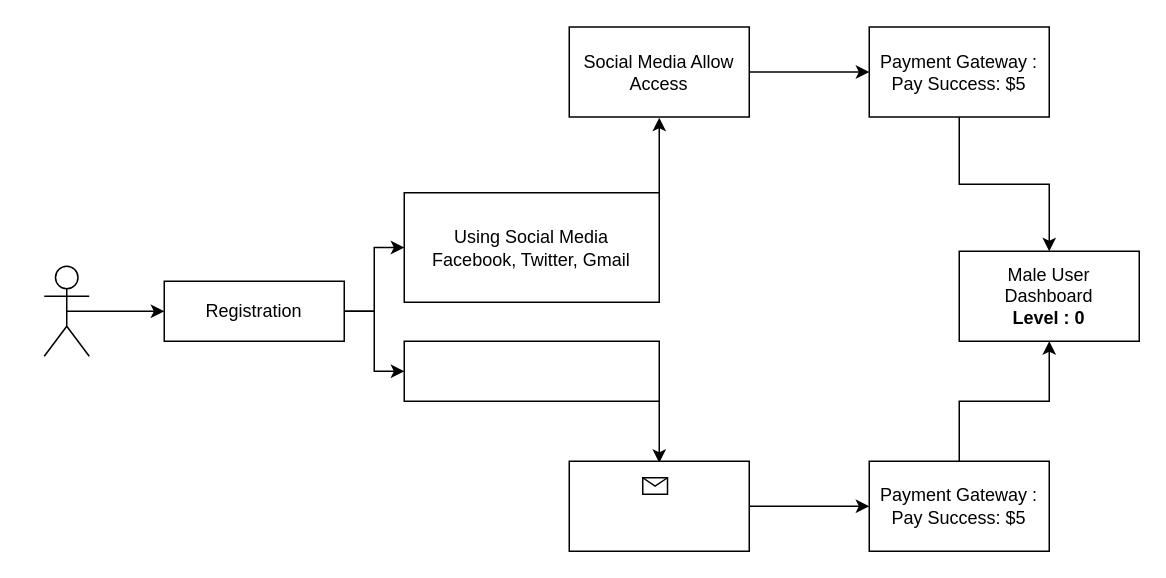
Image size: 1166x578. Some labels were removed from this diagram. Here are the shapes that lost their labels. From the top down, the centre of each, then its label:
the point at 66,310: Male User
the point at 531,370: Using Email, Password
the point at 658,505: Email Verification
